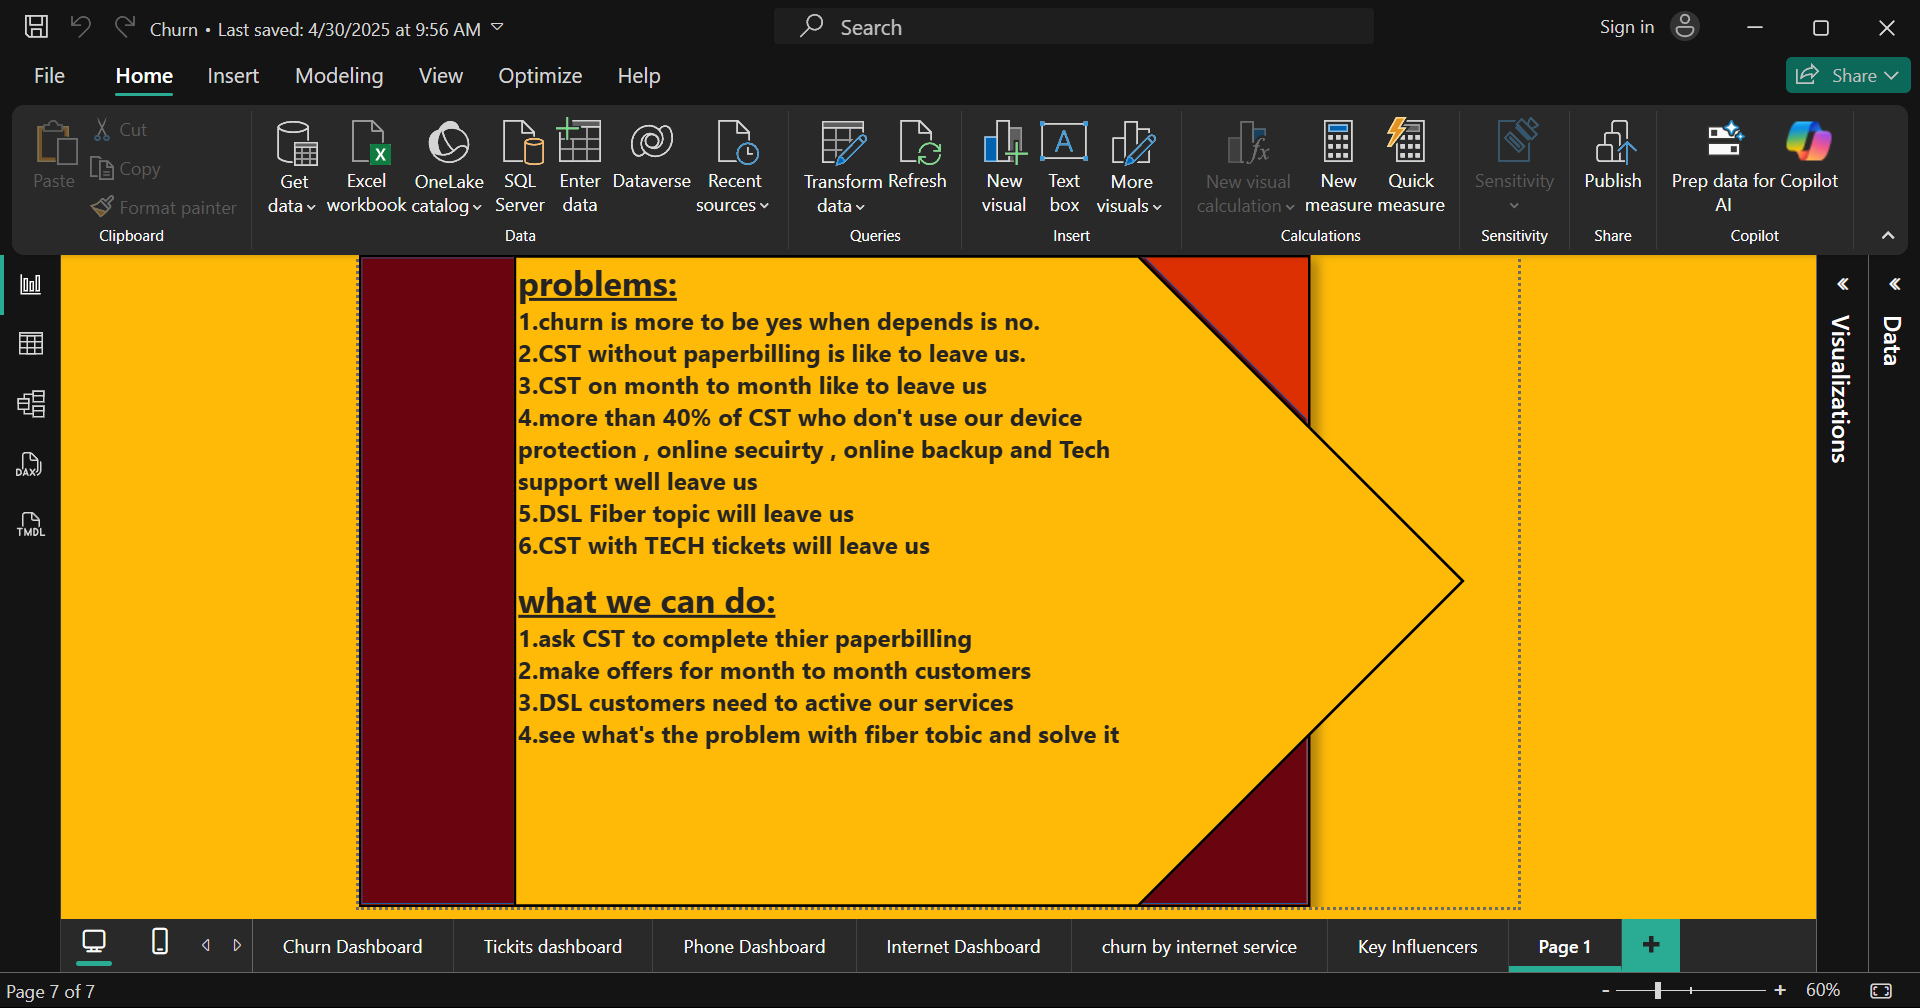

Layout of this report page (visuals, bound fields, positions):
{"tool":"powerbi","page":{"name":"Page 1","canvas":[1280,720],"ordinal":6},"visuals":[{"type":"shape","box":[0,0,1050.4,720],"z":500,"group":"g1"},{"type":"shape","box":[171.4,0,1050.4,720],"z":750,"group":"g1"},{"type":"group","id":"g1","title":"Group 1","box":[0,0,1221.8,720],"z":1500},{"type":"textbox","box":[171.4,0,684.2,720],"z":2500}]}

Visuals, with their boxes on the page's 1280x720 design canvas (x1, y1, x2, y2). These are canvas units, not pixel positions in the 1920x1008 screenshot, which may show the page scaled, cropped or inside an application window:
shape: x1=0 y1=0 x2=1050 y2=720
shape: x1=171 y1=0 x2=1222 y2=720
"Group 1" group: x1=0 y1=0 x2=1222 y2=720
textbox: x1=171 y1=0 x2=856 y2=720
